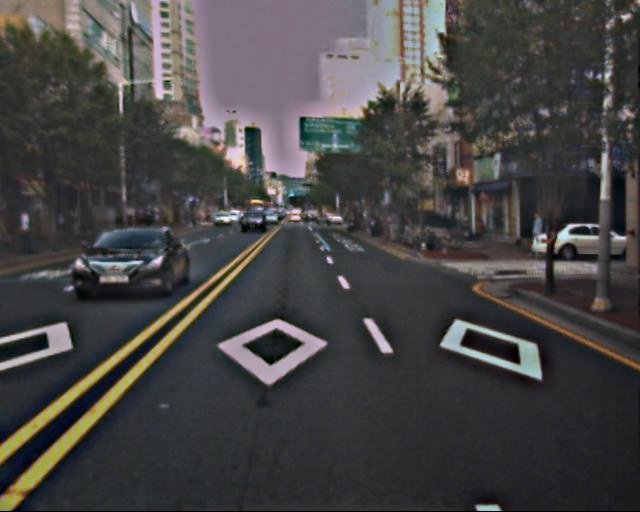person: (525, 211, 546, 263), (14, 208, 34, 257)
